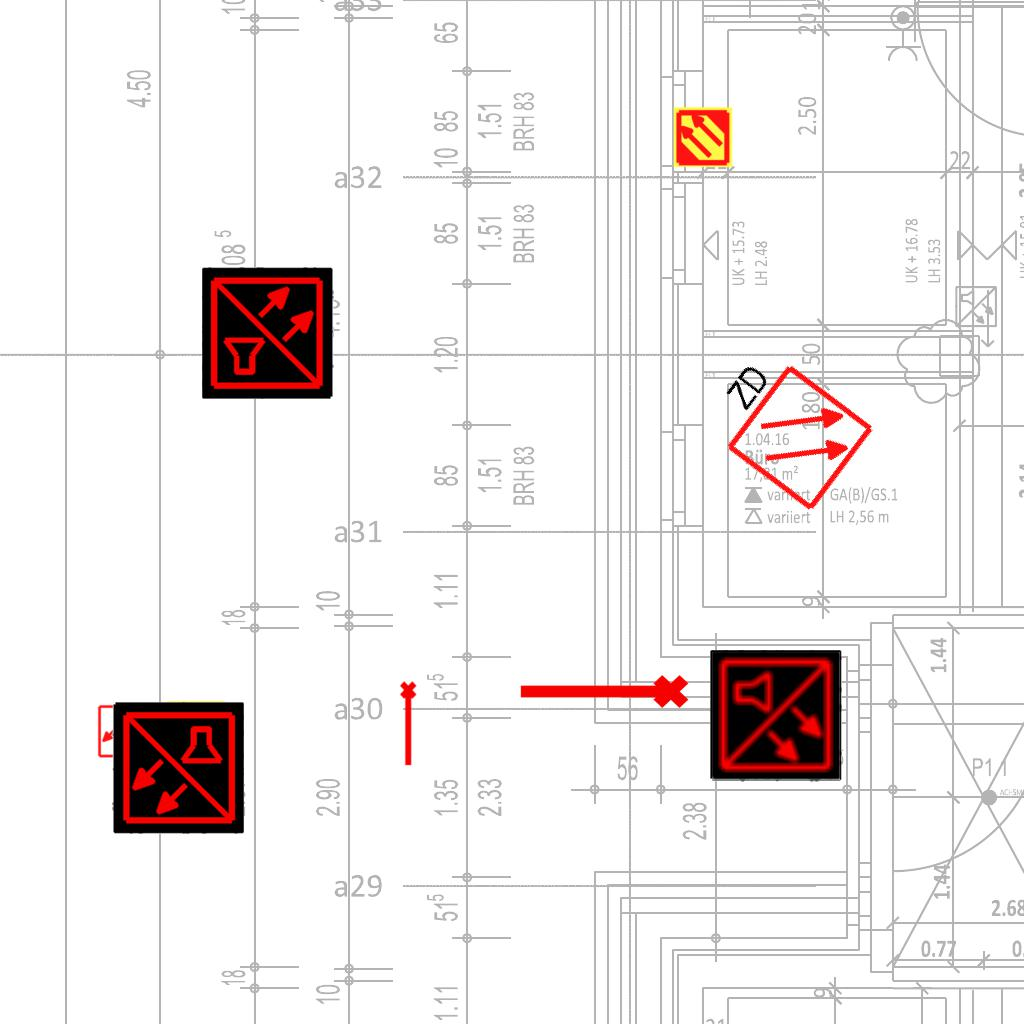ASR_Ansaugoeffnung: (515, 671, 691, 717), (398, 680, 421, 768)
ASR_Ansaugrauchmelder: (672, 106, 734, 168), (165, 700, 227, 762)
OKW_Multisensormelder_(Kombination_optischer_Rauch-Kahlenmonoxid_Waerme-Melder): (710, 650, 842, 782), (202, 267, 334, 399), (112, 702, 244, 834)
ZD_Melder_in_Zwischendecke_mit_Revisionsoeffnung_mind_40_x_40_cm: (690, 337, 878, 518), (97, 702, 171, 759)
